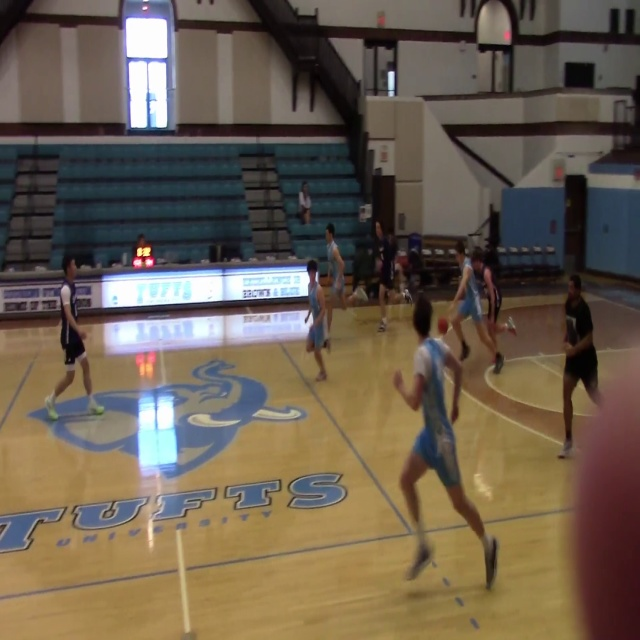Basketball: (437, 317, 448, 334)
